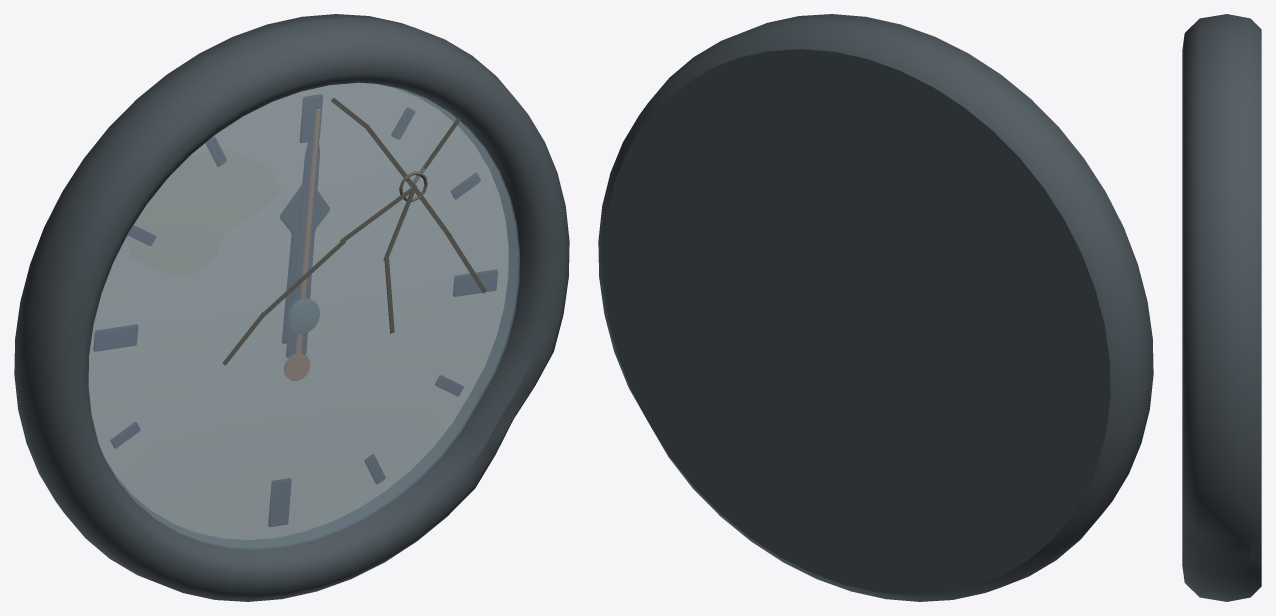
The model's file is wall_clock.glb.
The picture shows the model from 3 angles, left to right: view 1: azimuth 30°, elevation 25°; view 2: azimuth 150°, elevation 25°; view 3: azimuth 270°, elevation 25°; orthographic projection. The views are drawn at different scales.
Parts seen in each view (by area): view 1: Body, MinuteHand, SecondHand, HourHand; view 2: Body; view 3: Body.
Part boxes in pixels (x1,y1,x2,y2): Body: (14,14,569,601); MinuteHand: (286,118,319,357); SecondHand: (284,109,320,380); HourHand: (280,185,329,343); Body: (598,14,1153,601); Body: (1182,14,1261,601).
Size of the model in its own units: 0.9291 by 0.9291 by 0.126.
